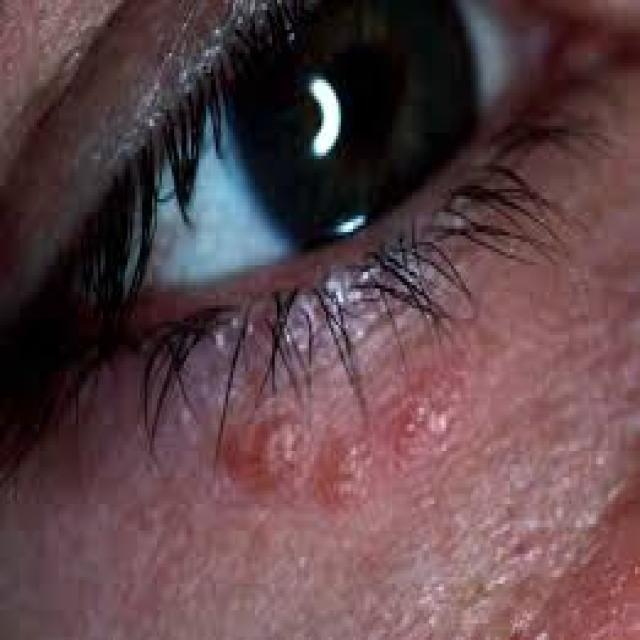Rosacea: (239, 360, 473, 498)
